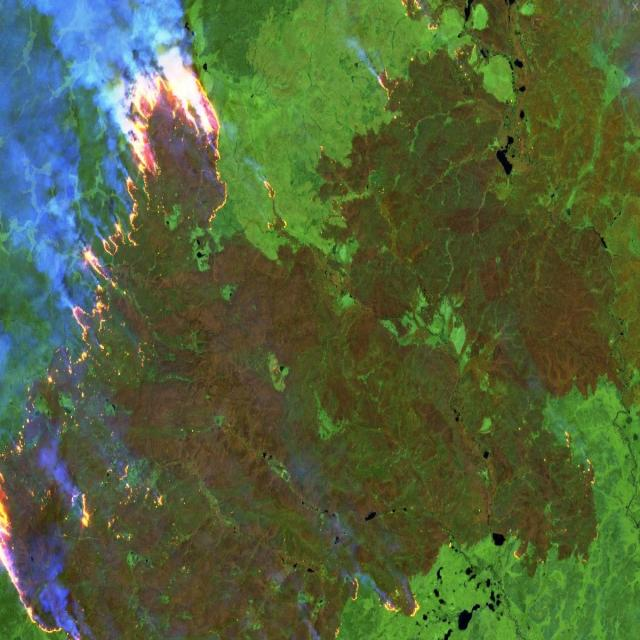fire: (0, 0, 229, 640), (340, 568, 428, 630), (364, 51, 409, 121), (254, 166, 295, 242)
